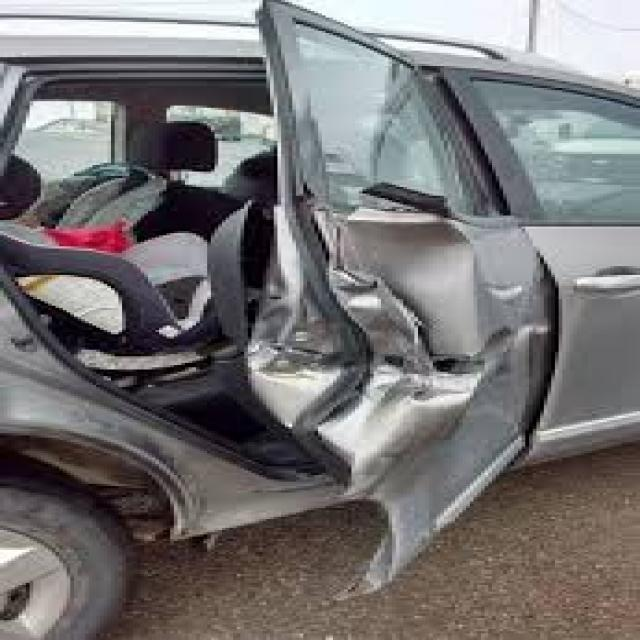moderate: (24, 13, 573, 588)
